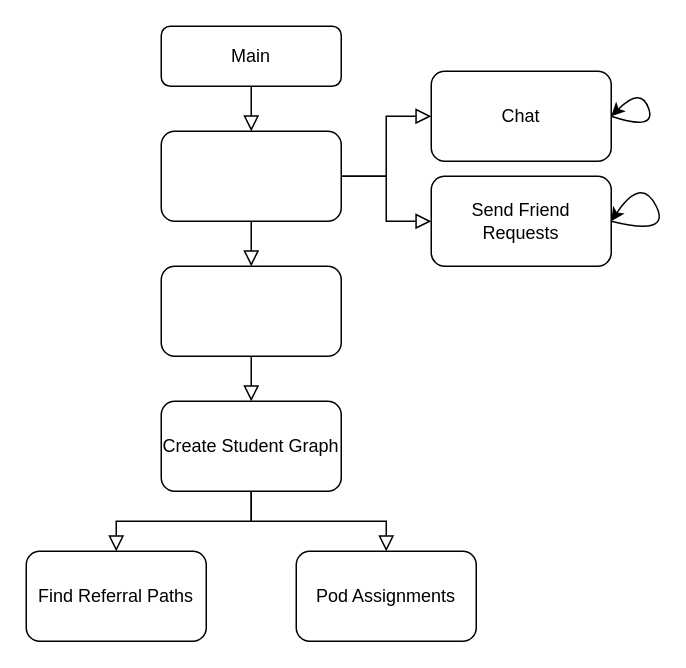
Image size: 686x668. Some labels were removed from this diagram. Each missing label, with the centre of its shape:
Parse Data: the point at 250,175
Roommate Assignments: the point at 250,310
